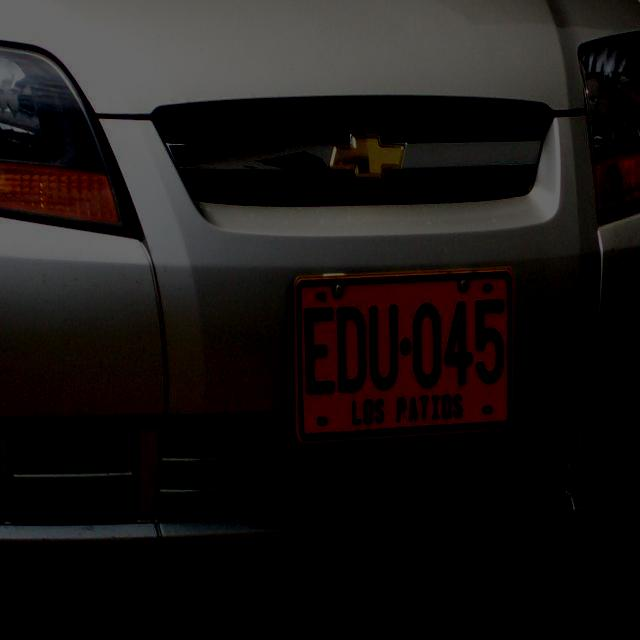placa: (290, 262, 518, 448)
